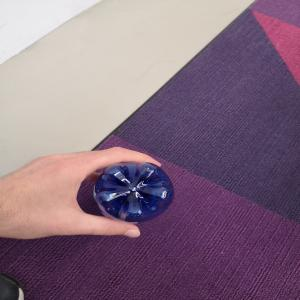Plastic-bottle: (95, 163, 176, 224)
